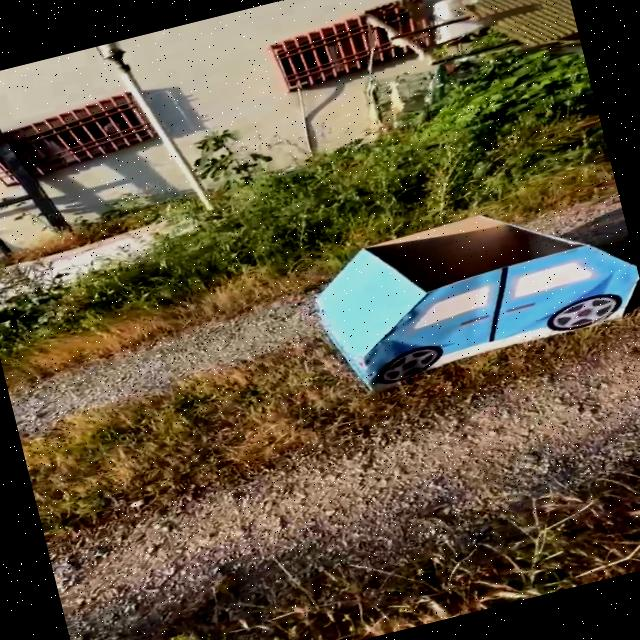blue_car: (277, 163, 640, 442)
